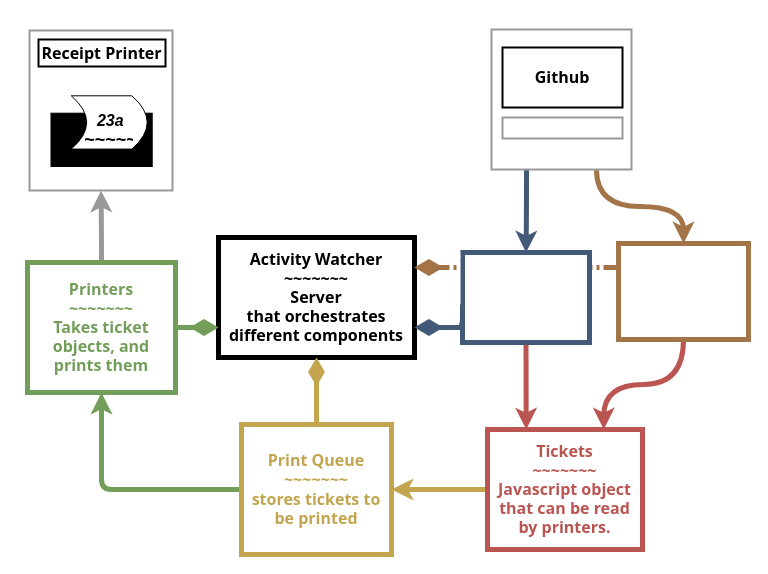
Some shapes in this 768 by 574 pixel diagram are drawn without their labels. Each missing label, with the centre of its shape:
"Hooks ~~~~~~~ get tickets as they are made" belongs at point 683,291.
"Ticket 23a" belongs at point 562,127.
"Watches ~~~~~~~ get tickets at intervals" belongs at point 526,297.
